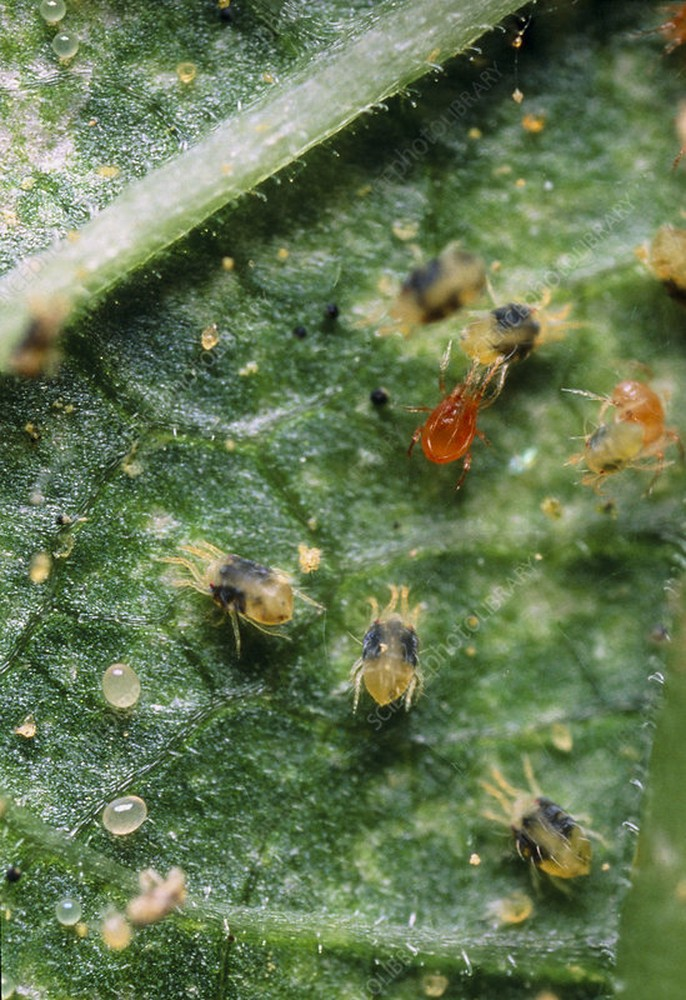Aracnido Rojo: (156, 519, 321, 651), (399, 350, 530, 497), (481, 760, 613, 895), (346, 574, 448, 725), (371, 228, 502, 345), (456, 277, 572, 372), (571, 405, 667, 495)
